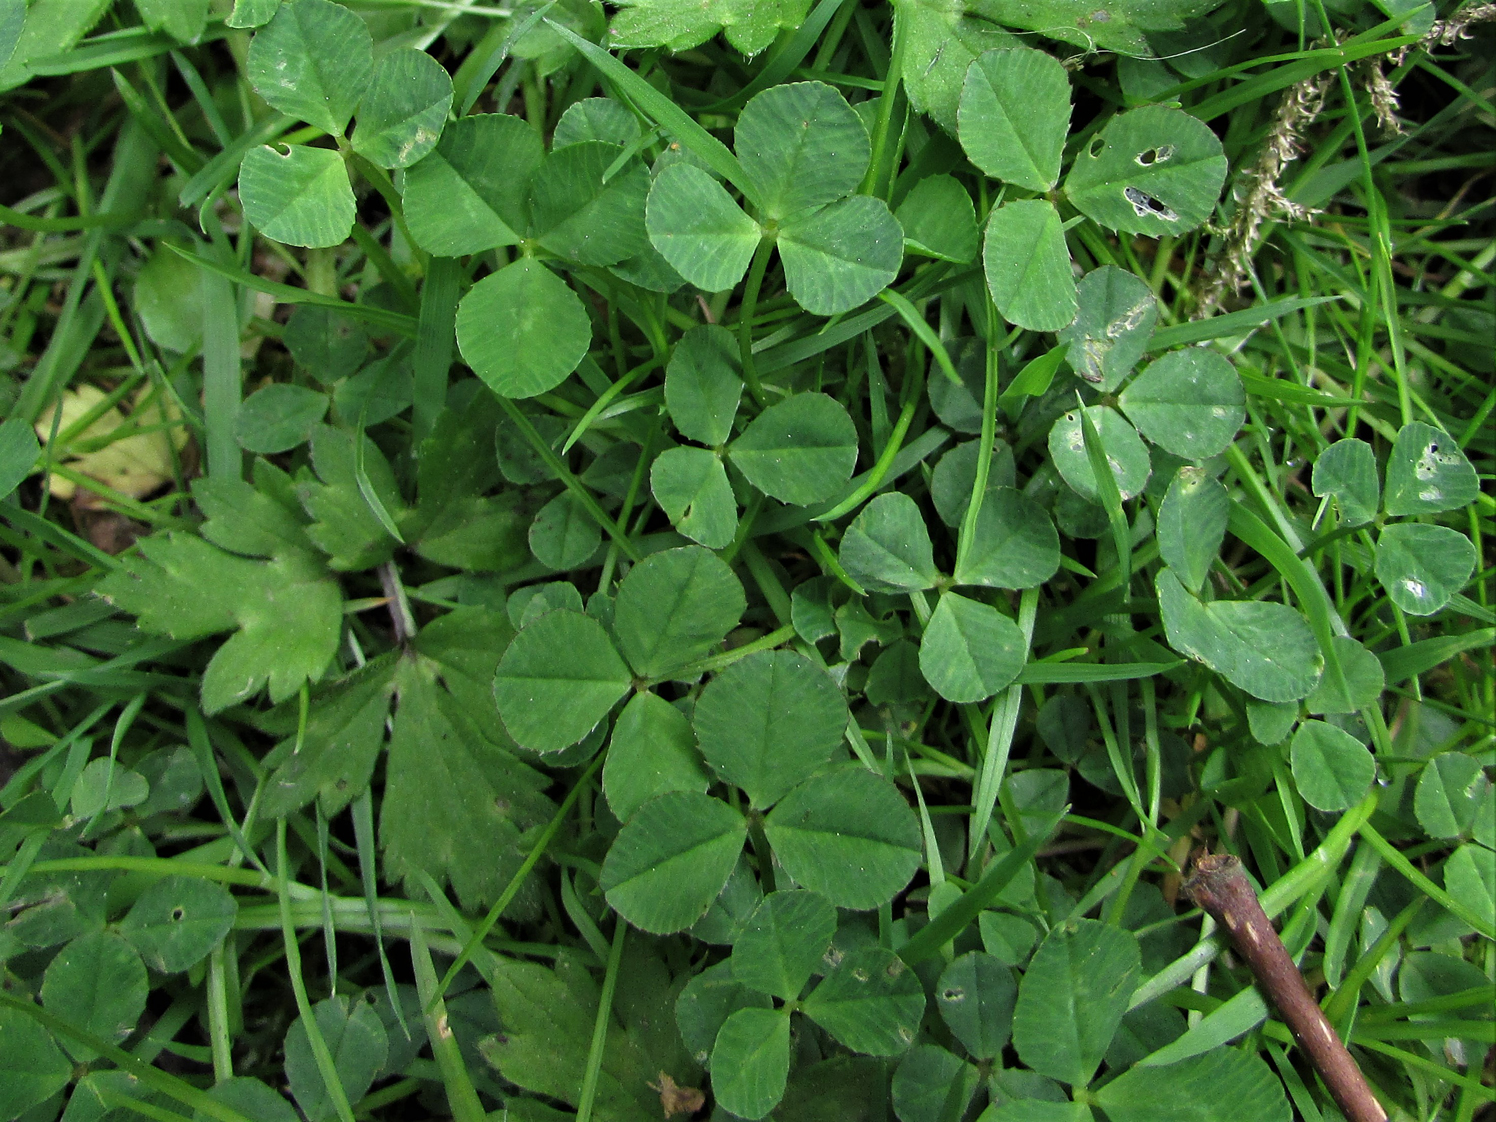clover: (9, 12, 1485, 1122)
